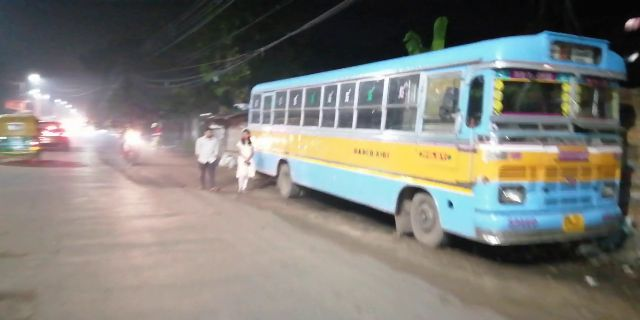Bus: (243, 36, 625, 241)
